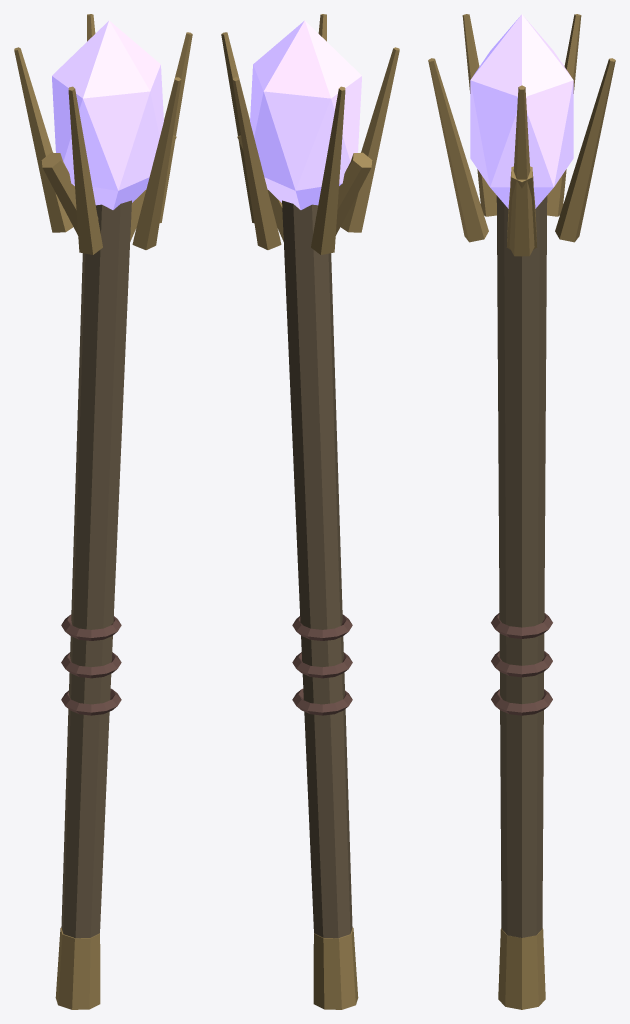
Rendered from gear_staff.glb.
The picture shows the model from 3 angles, left to right: view 1: azimuth 30°, elevation 25°; view 2: azimuth 150°, elevation 25°; view 3: azimuth 270°, elevation 25°; orthographic projection. The views are drawn at different scales.
Visible parts, largest first — view 1: Crooked ash staff, Amethyst focus, Staff foot ferrule, Astral prong.003, Astral prong.002, Astral prong.001, Crystal cradle, Astral prong.004, Grip binding, Grip binding.002, Grip binding.001; view 2: Crooked ash staff, Amethyst focus, Staff foot ferrule, Astral prong, Astral prong.001, Astral prong.002, Crystal cradle, Astral prong.004, Grip binding, Grip binding.002, Grip binding.001; view 3: Crooked ash staff, Amethyst focus, Staff foot ferrule, Astral prong, Astral prong.003, Astral prong.004, Astral prong.001, Astral prong.002, Grip binding, Grip binding.001, Grip binding.002, Crystal cradle.001.
Boxes of the visible parts, x1,y1,x2,y2 form: Crooked ash staff: (61,200,131,938); Amethyst focus: (52,20,163,209); Staff foot ferrule: (55,928,100,1009); Astral prong.003: (132,77,181,249); Astral prong.002: (68,86,102,254); Astral prong.001: (14,47,73,232); Crystal cradle: (41,152,98,235); Astral prong.004: (159,32,192,222); Grip binding: (61,688,121,715); Grip binding.002: (61,614,121,640); Grip binding.001: (61,652,121,678); Crooked ash staff: (282,200,352,938); Amethyst focus: (250,20,361,209); Staff foot ferrule: (313,928,358,1009); Astral prong: (232,77,281,249); Astral prong.001: (311,86,345,254); Astral prong.002: (340,47,399,232); Crystal cradle: (315,152,372,235); Astral prong.004: (221,32,254,222); Grip binding: (292,688,352,715); Grip binding.002: (292,614,352,640); Grip binding.001: (292,652,352,678); Crooked ash staff: (496,195,547,937); Amethyst focus: (470,14,573,208); Staff foot ferrule: (498,928,545,1009); Astral prong: (555,58,615,242); Astral prong.003: (428,58,488,242); Astral prong.004: (509,85,534,256); Astral prong.001: (547,14,581,216); Astral prong.002: (462,14,496,216); Grip binding: (491,689,552,715); Grip binding.001: (491,651,552,677); Grip binding.002: (491,613,552,638); Crystal cradle.001: (506,166,537,256).
Size of the model in its own units: 0.338 by 2.09 by 0.3554.
